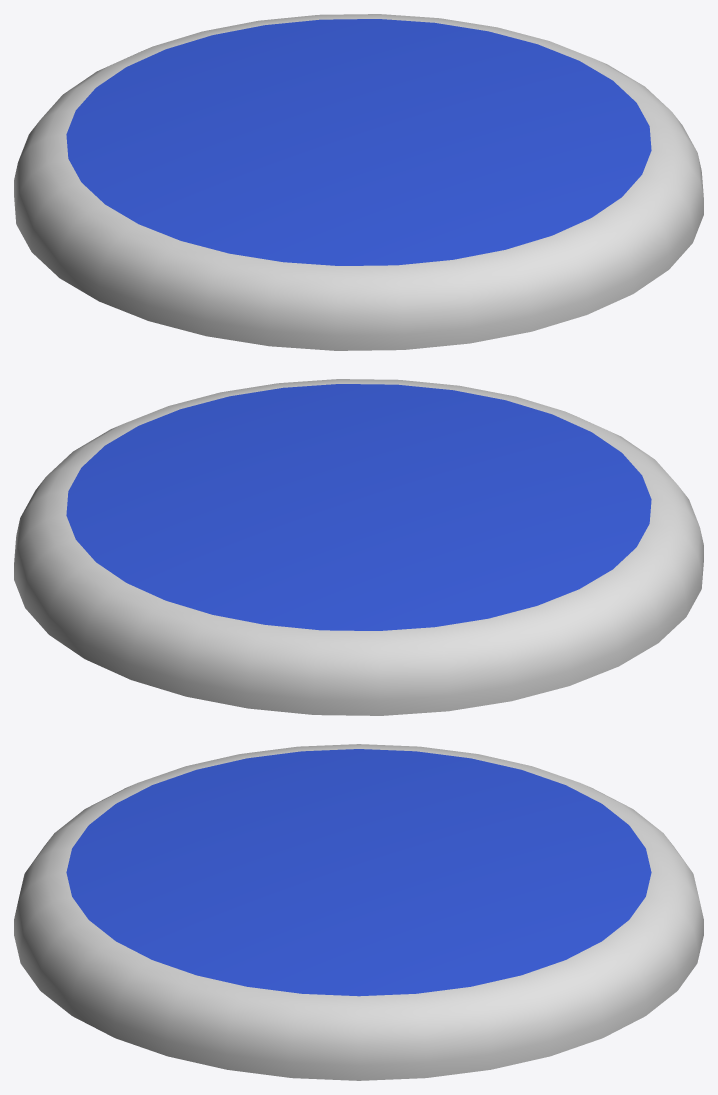
File: CylinderForTile_03_Short.fbx
3 renders of one model, top to bottom at view 1: azimuth 30°, elevation 25°; view 2: azimuth 150°, elevation 25°; view 3: azimuth 270°, elevation 25°, orthographic.
Visible parts, largest first — view 1: Cylinder; view 2: Cylinder; view 3: Cylinder.
Part boxes in pixels (bbox=[...]): Cylinder: bbox=[14, 14, 703, 350]; Cylinder: bbox=[14, 379, 703, 715]; Cylinder: bbox=[14, 744, 703, 1080].
Size of the model in its own units: 200 by 20 by 200.
